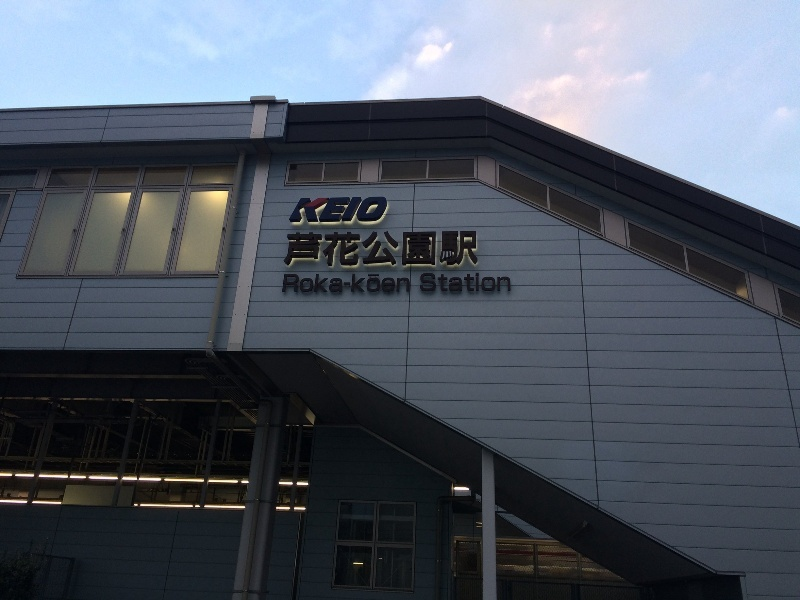text: (289, 228, 304, 267), (305, 228, 320, 267), (321, 228, 336, 267), (337, 228, 352, 267), (353, 228, 368, 267), (369, 228, 384, 267), (385, 228, 400, 267), (401, 228, 416, 267), (417, 228, 432, 267), (433, 228, 448, 267), (449, 228, 464, 267), (465, 228, 480, 267), (305, 196, 320, 224), (321, 196, 336, 224), (337, 196, 352, 224), (353, 196, 368, 224), (369, 196, 384, 224), (289, 274, 304, 295), (305, 274, 320, 295), (321, 274, 336, 295), (337, 274, 352, 295), (353, 274, 368, 295), (369, 274, 384, 295), (385, 274, 400, 295), (433, 274, 448, 294), (449, 274, 464, 294), (465, 274, 480, 294), (481, 274, 496, 294), (497, 274, 512, 294), (420, 274, 432, 294), (401, 274, 411, 295), (385, 196, 391, 224), (300, 196, 304, 224), (284, 274, 288, 295), (287, 228, 288, 267)
